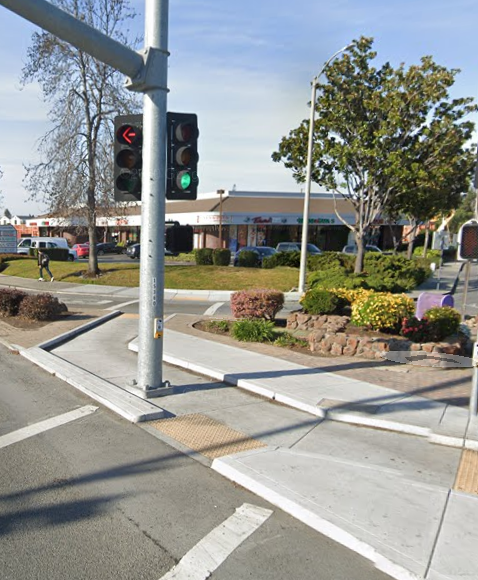green_light: (170, 112, 199, 199)
